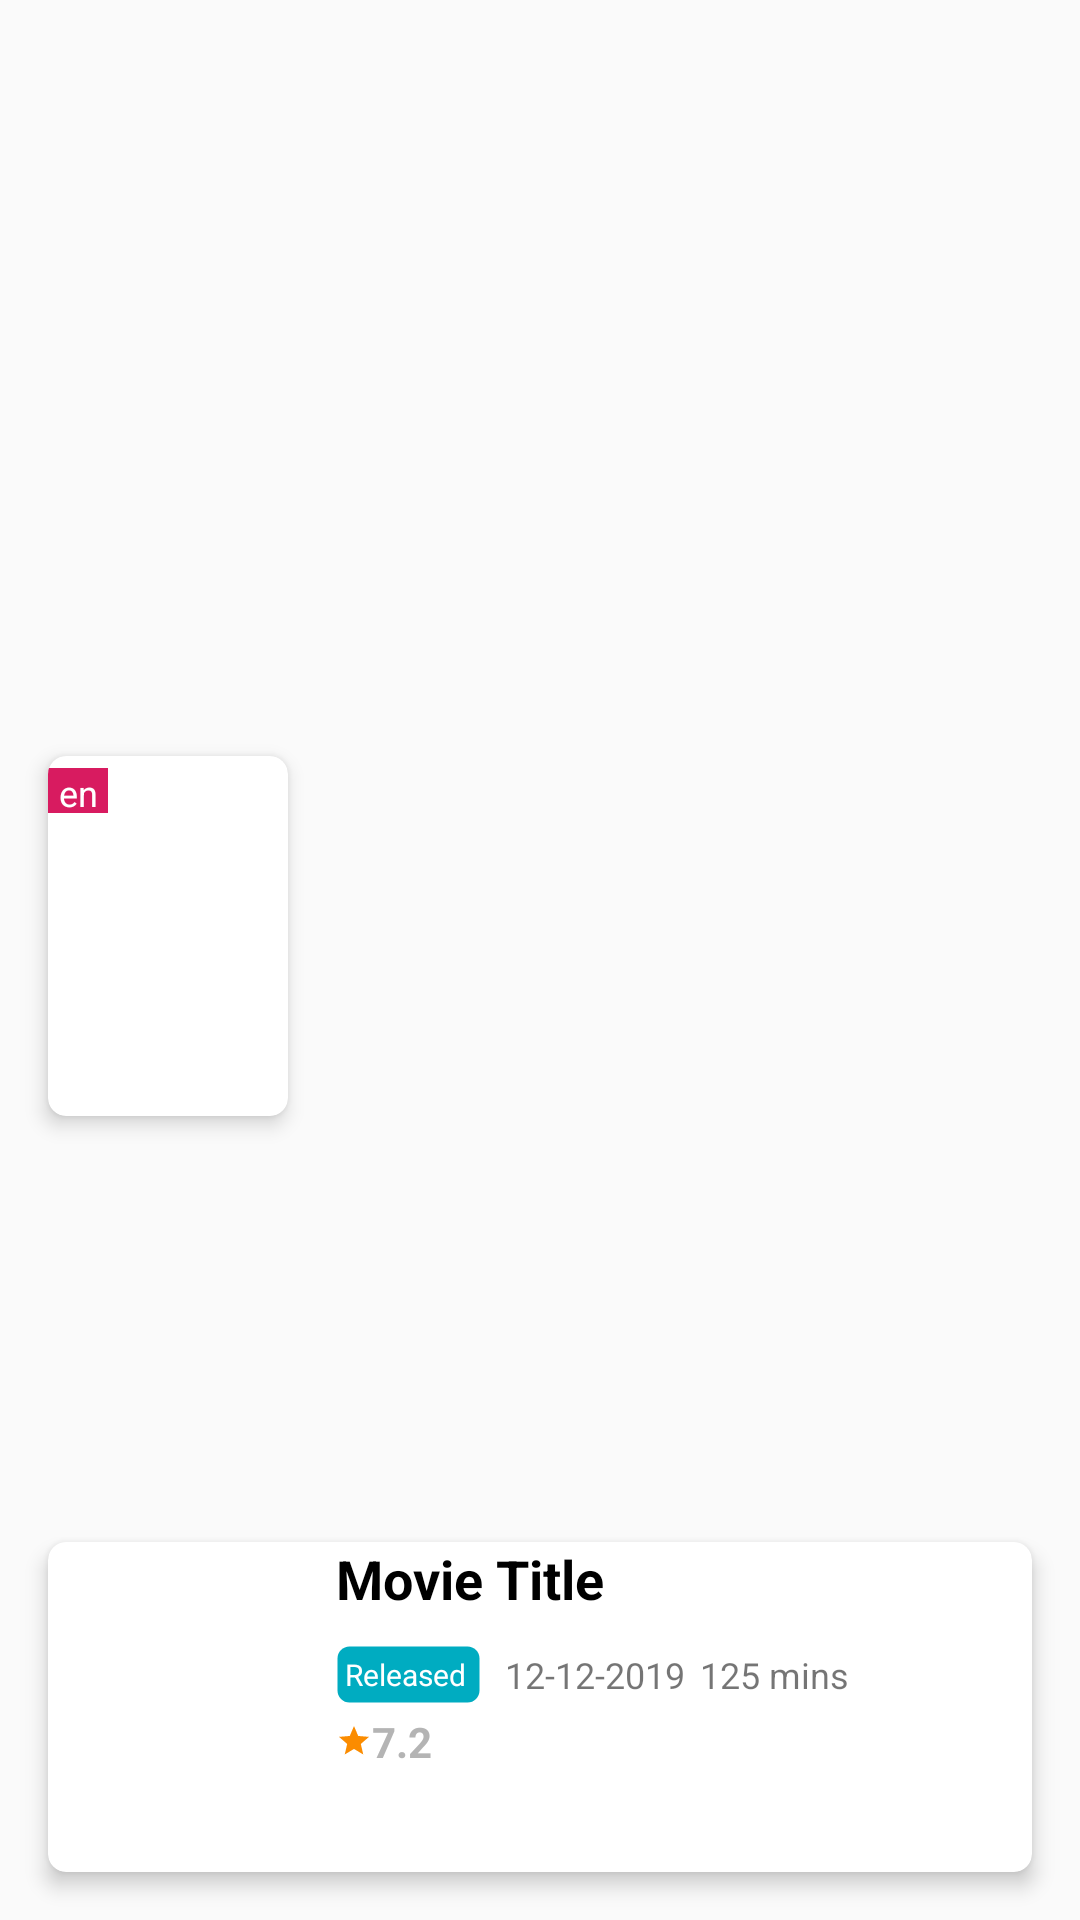

Named icons in this screenshot (1080*1920) and their centers, (x=x, y=y):
star: (x=354, y=1740)
